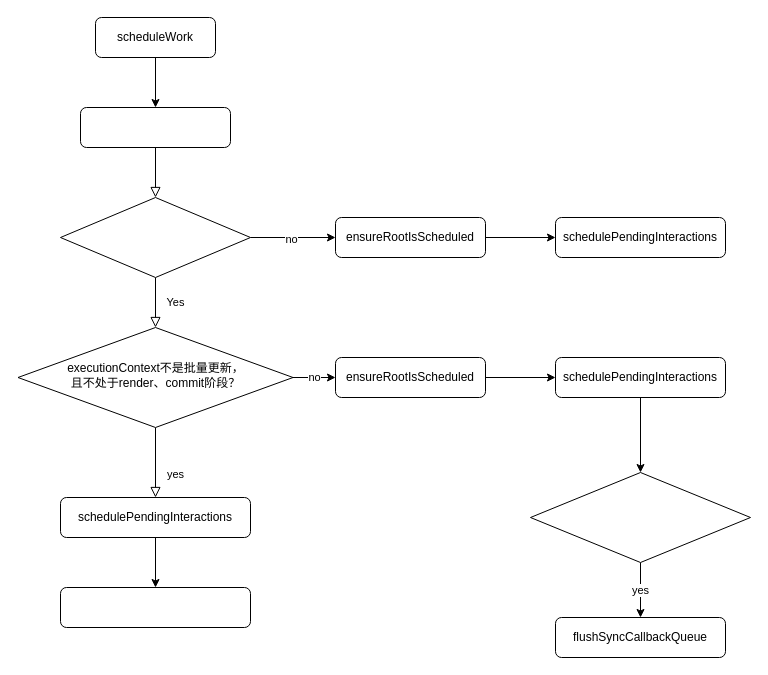
This 768x675 diagram has some shape labels left out. Here are the shapes that lost their labels. From the top down, the centre of each, then its label:
At (155,127): "scheduleUpdateOnFiber".
At (155,237): "expirationTime === Sync 是否为同步更新？".
At (640,517): "如果当前主线程没有任务 executionContext === NoContext".
At (155,607): "performSyncWorkOnRoot".
